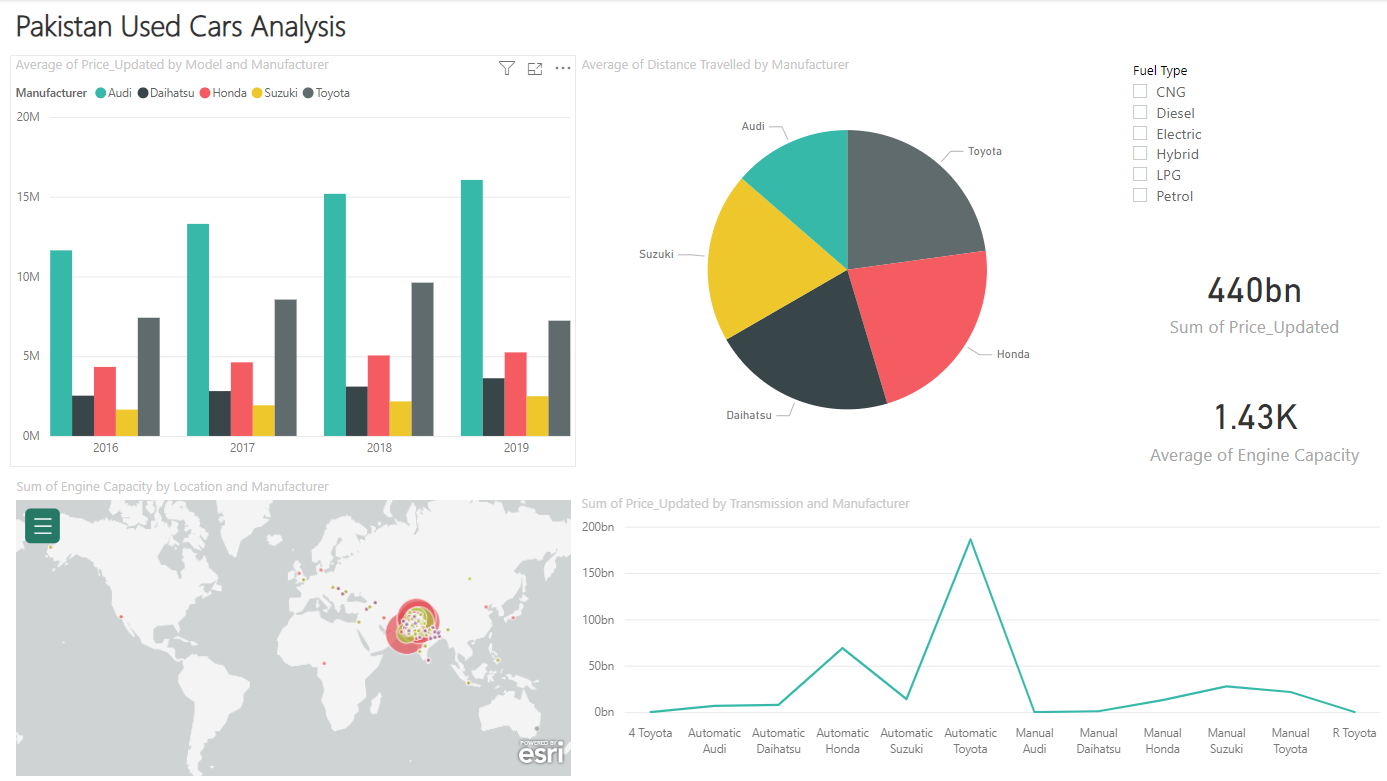

Layout of this report page (visuals, bound fields, positions):
{"tool":"powerbi","page":{"name":"Page 1","canvas":[1280,720],"ordinal":0},"visuals":[{"type":"textbox","box":[9.5,0,521,51.2],"z":0},{"type":"clusteredColumnChart","fields":{"Category":["updated_used_cars.Model"],"Y":["Avg(updated_used_cars.Price_Updated)"],"Series":["updated_used_cars.Manufacturer"]},"box":[9.5,51.2,521,379.5],"z":1000},{"type":"slicer","fields":{"Values":["updated_used_cars.Fuel Type"]},"box":[1030.2,51.2,249.8,173.7],"z":2000},{"type":"esriVisual","fields":{"Size":["Sum(updated_used_cars.Engine Capacity)"],"Location":["updated_used_cars.Location"],"Color":["updated_used_cars.Manufacturer"]},"box":[10,440,521,280],"z":3000},{"type":"card","fields":{"Values":["Median(updated_used_cars.Price_Updated)"]},"box":[1030.2,221.3,249.8,108.3],"z":4000},{"type":"lineChart","fields":{"Category":["updated_used_cars.Transmission","updated_used_cars.Manufacturer"],"Y":["Sum(updated_used_cars.Price_Updated)"]},"box":[530.6,455.6,749.4,249.8],"z":5000},{"type":"pieChart","fields":{"Y":["Median(updated_used_cars.Distance Travelled)"],"Category":["updated_used_cars.Manufacturer"]},"box":[530.6,51.2,499.6,379.5],"z":6000},{"type":"card","fields":{"Values":["Median(updated_used_cars.Engine Capacity)"]},"box":[1030.2,329.5,249.8,126.1],"z":7000}]}

Visuals, with their boxes in screenshot pixels (x1, y1, x2, y2), scaled from the page's 1280x720 canvas onto the 1387x781 screenshot:
textbox: [10, 0, 575, 56]
clusteredColumnChart - updated_used_cars.Model x Avg(updated_used_cars.Price_Updated): [10, 56, 575, 467]
slicer - updated_used_cars.Fuel Type: [1116, 56, 1386, 244]
esriVisual - Sum(updated_used_cars.Engine Capacity) x updated_used_cars.Location: [11, 477, 575, 780]
card - Median(updated_used_cars.Price_Updated): [1116, 240, 1386, 358]
lineChart - updated_used_cars.Transmission x updated_used_cars.Manufacturer: [575, 494, 1386, 765]
pieChart - Median(updated_used_cars.Distance Travelled) x updated_used_cars.Manufacturer: [575, 56, 1116, 467]
card - Median(updated_used_cars.Engine Capacity): [1116, 357, 1386, 494]
